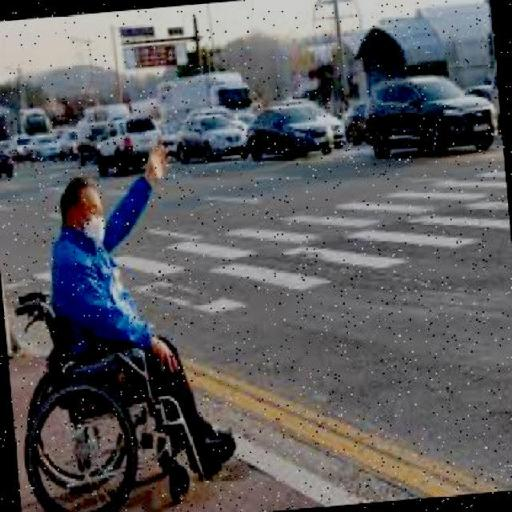cadeira_de_rodas: (1, 137, 245, 497)
